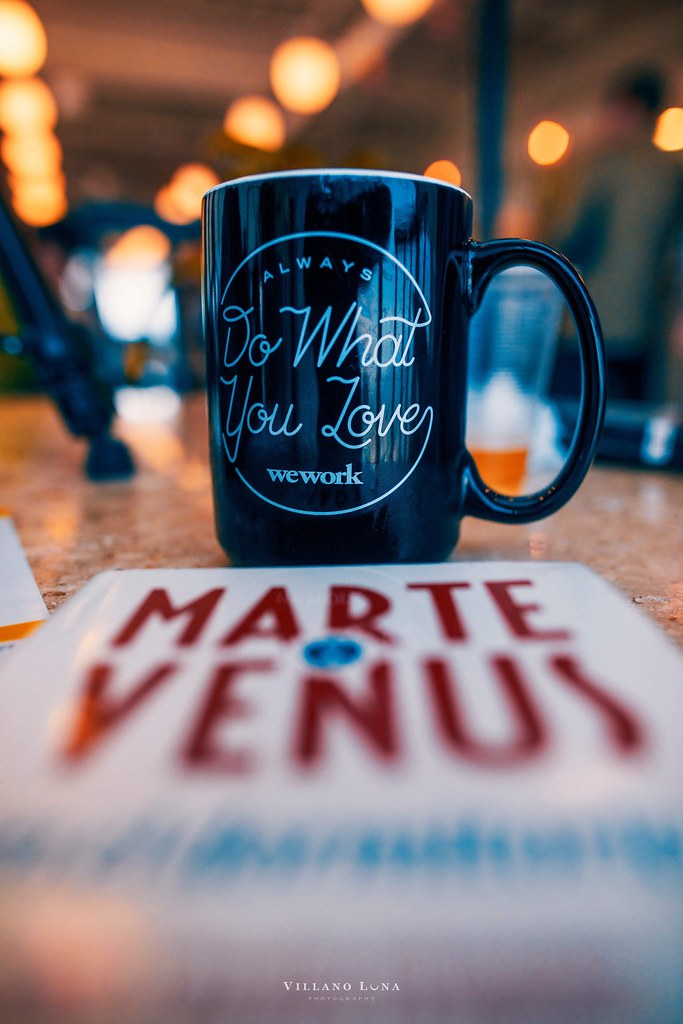wework: (261, 460, 368, 490)
